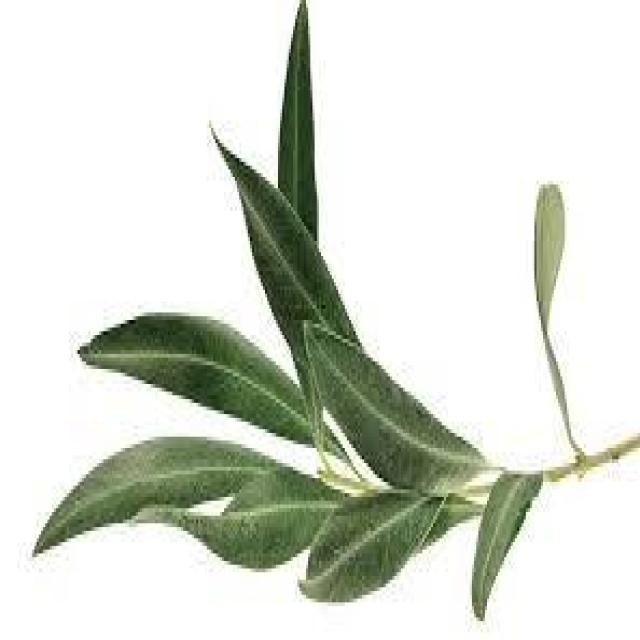Healthy: (302, 316, 509, 493), (80, 312, 317, 448), (37, 437, 280, 550)
